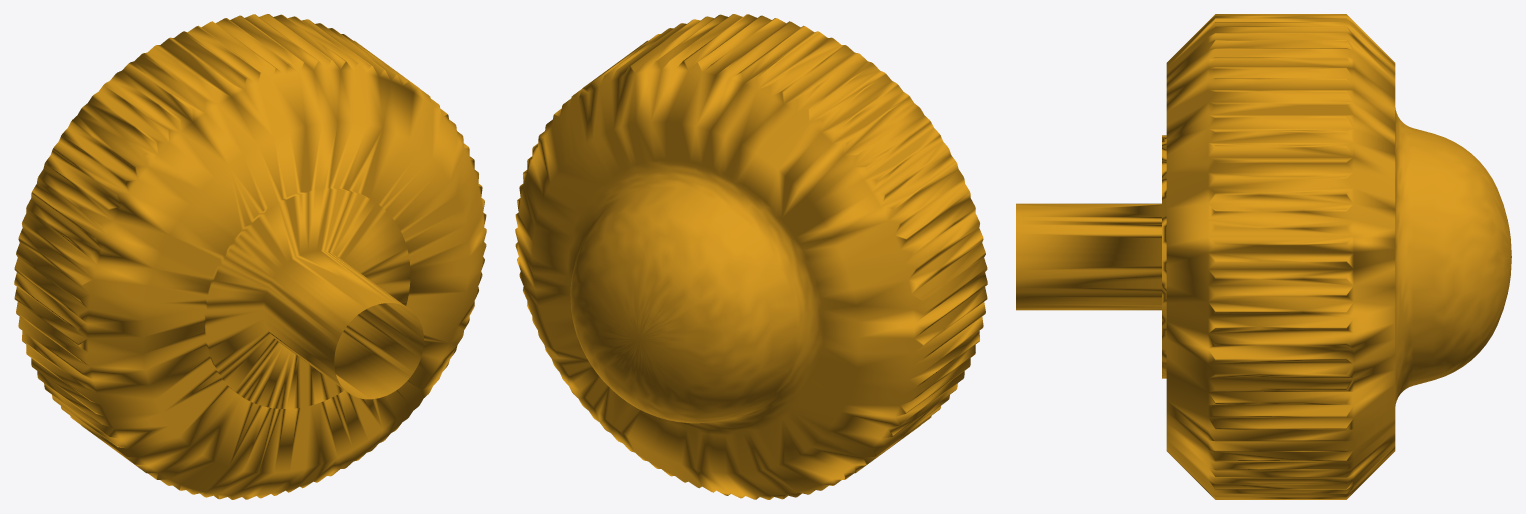
File: lowerparts_4.obj
3 views of the same model, side by side, from view 1: azimuth 30°, elevation 25°; view 2: azimuth 150°, elevation 25°; view 3: azimuth 270°, elevation 25° (orthographic). The views are drawn at different scales.
Bounding box in the file's own units: 20 × 19.99 × 20.4.
